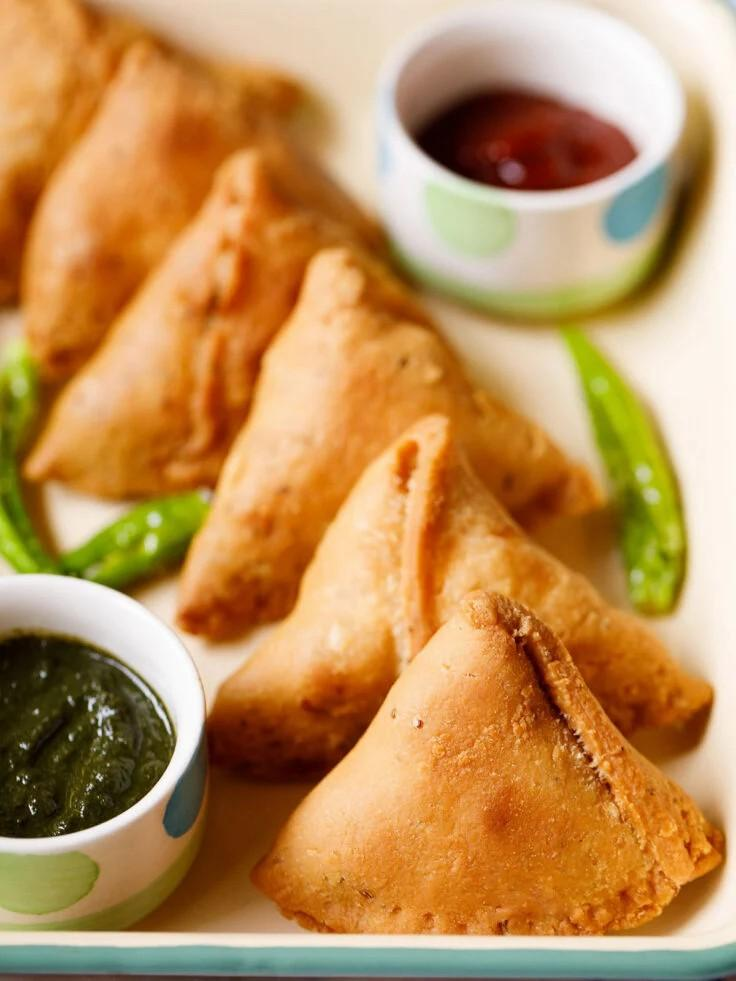Samosa: (211, 414, 715, 770), (168, 247, 617, 626), (248, 591, 722, 938), (18, 147, 424, 504), (20, 46, 391, 372)
